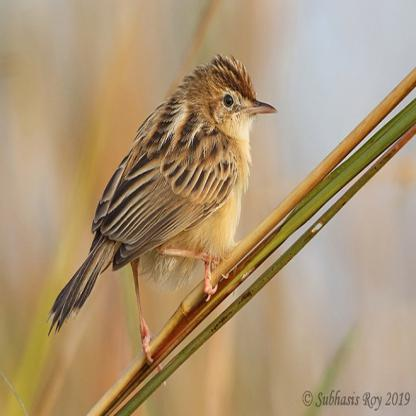Burung: (45, 52, 278, 385)
